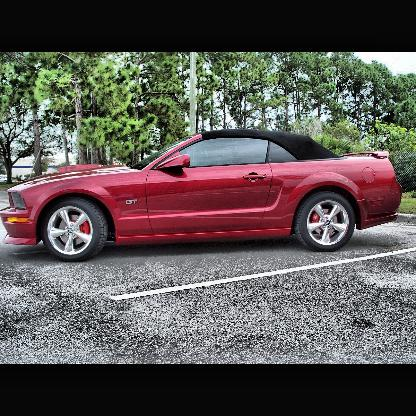Ford Mustang Convertible 2007: (2, 130, 407, 264)
